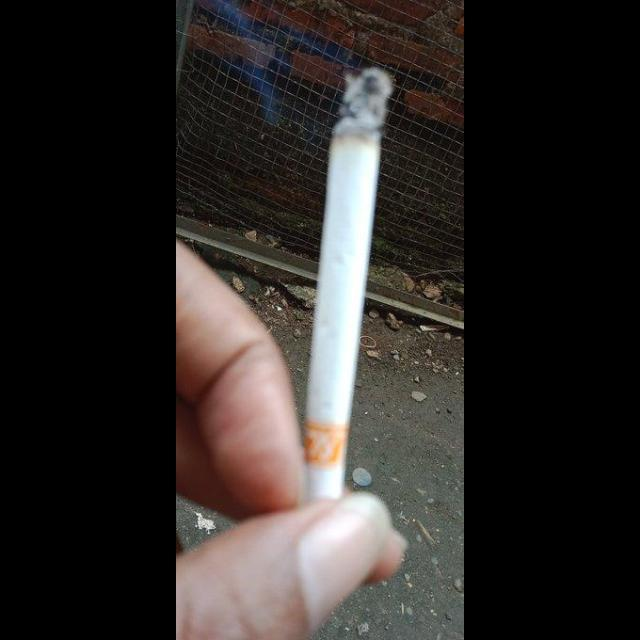rokok: (296, 56, 400, 496)
